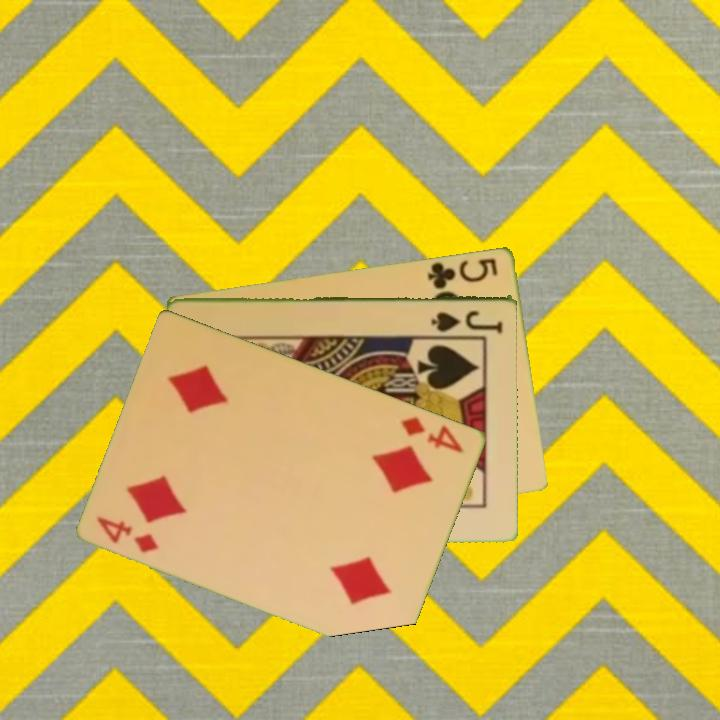4d: (94, 512, 163, 556), (398, 413, 467, 455)
5c: (424, 254, 501, 292)
Js: (429, 307, 506, 333)
